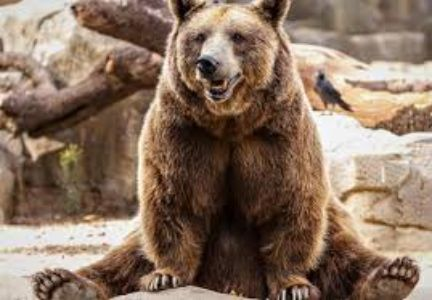bear: (52, 5, 421, 294)
